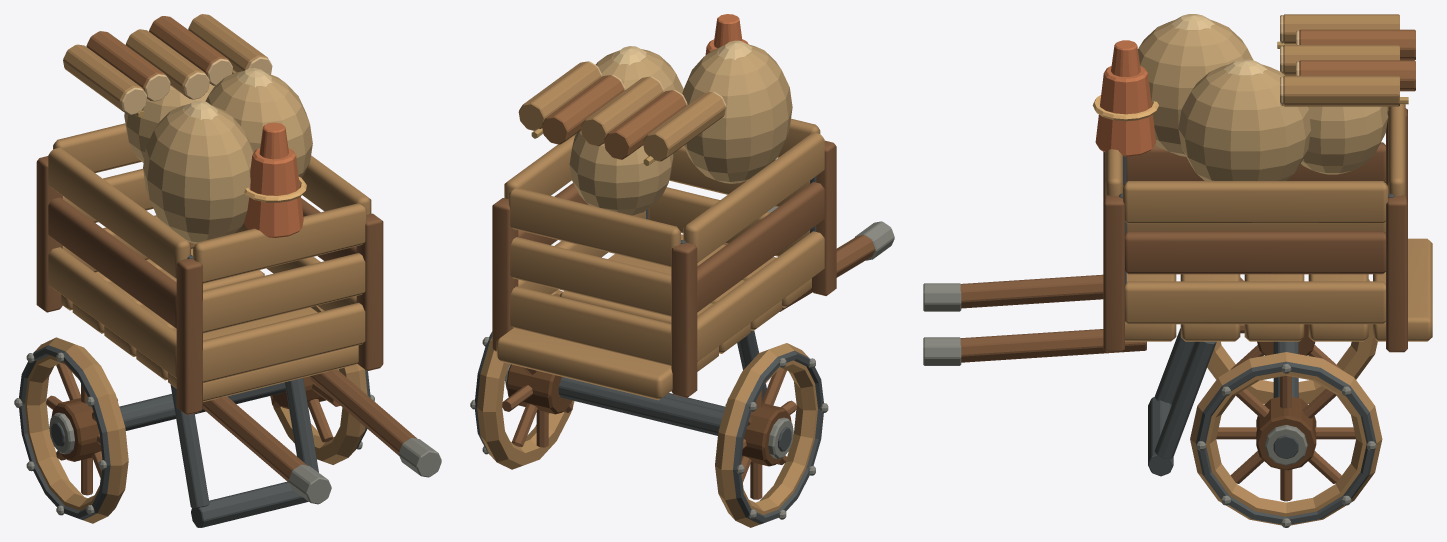
Rendered from carrinho_entregas.glb.
3 views of the same model, side by side, from view 1: azimuth 30°, elevation 25°; view 2: azimuth 150°, elevation 25°; view 3: azimuth 270°, elevation 25° (orthographic).
Parts seen in each view (by area): view 1: Caçamba | assoalho 0; view 2: Caçamba | assoalho 0; view 3: Caçamba | assoalho 0.
Boxes of the visible parts, x1,y1,x2,y2 form: Caçamba | assoalho 0: (14,14,441,527); Caçamba | assoalho 0: (470,14,894,527); Caçamba | assoalho 0: (923,14,1432,527).
Size of the model in its own units: 1.1 by 1.63 by 1.75.
